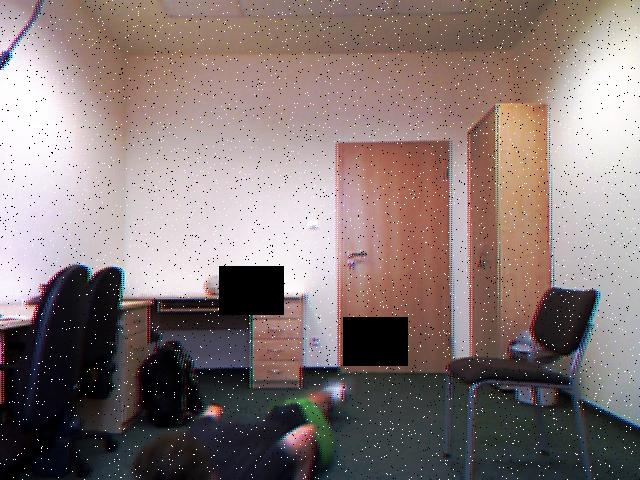fall: (122, 369, 373, 480)
